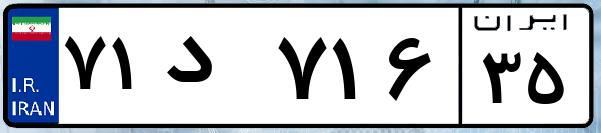1: (330, 28, 385, 110), (110, 28, 158, 98)
3: (475, 38, 525, 113)
5: (525, 38, 570, 115)
6: (385, 28, 445, 110)
7: (270, 28, 330, 110), (57, 26, 110, 100)
د: (158, 20, 270, 120)
